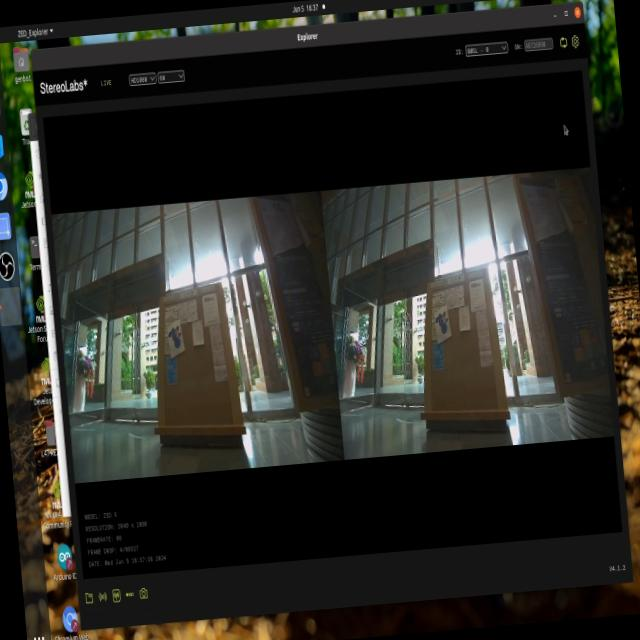blue: (160, 314, 188, 356), (430, 303, 455, 340)
